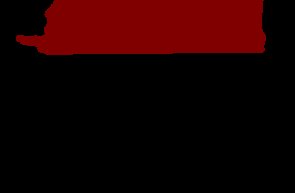Sky: (17, 1, 265, 55)
